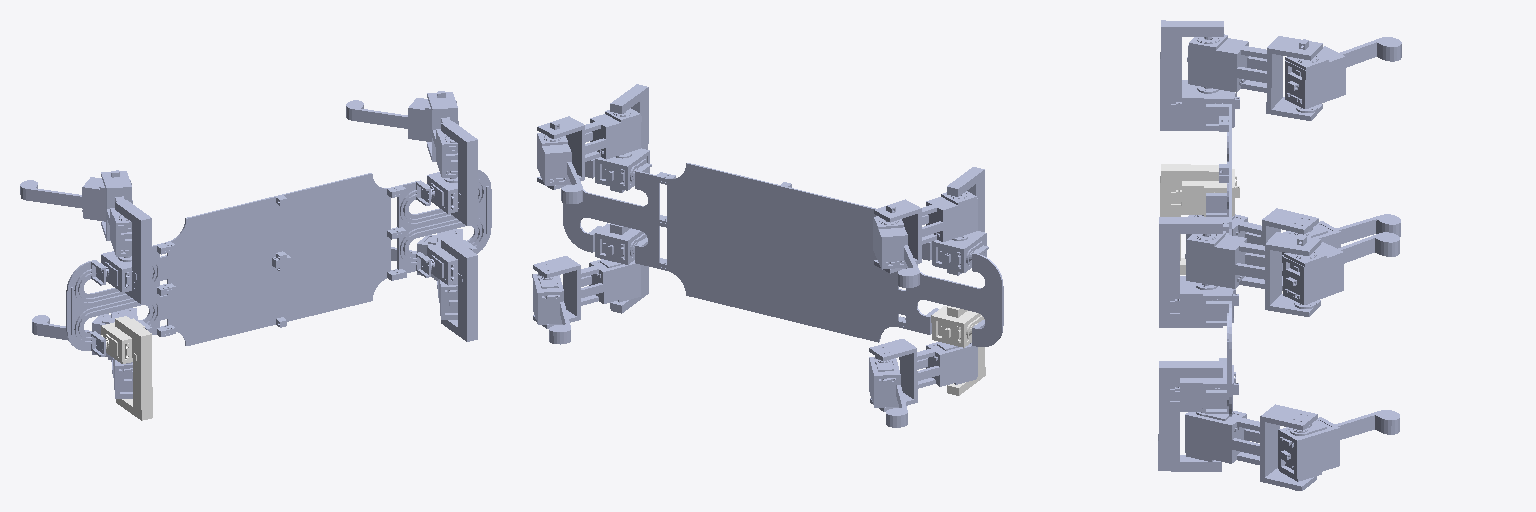
The robot description file, URDF, robot "Full Body.SLDASM":
<?xml version="1.0" encoding="utf-8"?>
<!-- This URDF was automatically created by SolidWorks to URDF Exporter! Originally created by [author] ([email redacted]) 
     Commit Version: 1.6.0-4-g7f85cfe  Build Version: 1.6.7995.38578
     For more information, please see http://wiki.ros.org/sw_urdf_exporter -->
<robot
  name="Full Body.SLDASM">
  <link
    name="body">
    <inertial>
      <origin
        xyz="0.17399 -0.0072178 0.011599"
        rpy="0 0 0" />
      <mass
        value="0.19944" />
      <inertia
        ixx="0.00016185"
        ixy="-5.2204E-08"
        ixz="1.0475E-18"
        iyy="0.00054277"
        iyz="5.3474E-18"
        izz="0.00038654" />
    </inertial>
    <visual>
      <origin
        xyz="0 0 0"
        rpy="0 0 0" />
      <geometry>
        <mesh
          filename="package://Full Body.SLDASM/meshes/body.STL" />
      </geometry>
      <material
        name="">
        <color
          rgba="0.79216 0.81961 0.93333 1" />
      </material>
    </visual>
    <collision>
      <origin
        xyz="0 0 0"
        rpy="0 0 0" />
      <geometry>
        <mesh
          filename="package://Full Body.SLDASM/meshes/body.STL" />
      </geometry>
    </collision>
  </link>
  <link
    name="front_left_shoulder">
    <inertial>
      <origin
        xyz="-0.069531 -0.05822 -0.029382"
        rpy="0 0 0" />
      <mass
        value="0.10612" />
      <inertia
        ixx="6.9045E-05"
        ixy="3.7441E-08"
        ixz="-3.6654E-07"
        iyy="3.437E-05"
        iyz="1.7802E-08"
        izz="8.4534E-05" />
    </inertial>
    <visual>
      <origin
        xyz="0 0 0"
        rpy="0 0 0" />
      <geometry>
        <mesh
          filename="package://Full Body.SLDASM/meshes/front_left_shoulder.STL" />
      </geometry>
      <material
        name="">
        <color
          rgba="0.79216 0.81961 0.93333 1" />
      </material>
    </visual>
    <collision>
      <origin
        xyz="0 0 0"
        rpy="0 0 0" />
      <geometry>
        <mesh
          filename="package://Full Body.SLDASM/meshes/front_left_shoulder.STL" />
      </geometry>
    </collision>
  </link>
  <joint
    name="front_left_shoulder_joint"
    type="revolute">
    <origin
      xyz="0.36601 0.030456 0.011371"
      rpy="-1.5708 -0.0034161 1.5708" />
    <parent
      link="body" />
    <child
      link="front_left_shoulder" />
    <axis
      xyz="0 0 1" />
    <limit
      lower="0"
      upper="0"
      effort="0"
      velocity="0" />
  </joint>
  <link
    name="front_left_thigh">
    <inertial>
      <origin
        xyz="-0.030997 0.063607 -0.071235"
        rpy="0 0 0" />
      <mass
        value="0.092156" />
      <inertia
        ixx="3.9451E-05"
        ixy="-2.4188E-05"
        ixz="-1.2087E-05"
        iyy="9.4452E-05"
        iyz="3.9038E-06"
        izz="8.3958E-05" />
    </inertial>
    <visual>
      <origin
        xyz="0 0 0"
        rpy="0 0 0" />
      <geometry>
        <mesh
          filename="package://Full Body.SLDASM/meshes/front_left_thigh.STL" />
      </geometry>
      <material
        name="">
        <color
          rgba="0.79216 0.81961 0.93333 1" />
      </material>
    </visual>
    <collision>
      <origin
        xyz="0 0 0"
        rpy="0 0 0" />
      <geometry>
        <mesh
          filename="package://Full Body.SLDASM/meshes/front_left_thigh.STL" />
      </geometry>
    </collision>
  </link>
  <joint
    name="front_left_thigh_joint"
    type="revolute">
    <origin
      xyz="0 0 -0.00862363122624432"
      rpy="-1.95295163559476 0 0" />
    <parent
      link="front_left_shoulder" />
    <child
      link="front_left_thigh" />
    <axis
      xyz="0 0.927863031055594 0.372921165396021" />
    <limit
      lower="0"
      upper="0"
      effort="0"
      velocity="0" />
  </joint>
  <link
    name="front_left_knee">
    <inertial>
      <origin
        xyz="-0.0494712889569819 0.0239070954154987 -0.108430571081441"
        rpy="0 0 0" />
      <mass
        value="0.0741258107469356" />
      <inertia
        ixx="3.18790252022645E-05"
        ixy="1.97729847666191E-05"
        ixz="1.74972772015769E-05"
        iyy="5.04816804602454E-05"
        iyz="-6.96245148390364E-06"
        izz="5.24239804537086E-05" />
    </inertial>
    <visual>
      <origin
        xyz="0 0 0"
        rpy="0 0 0" />
      <geometry>
        <mesh
          filename="package://Full Body.SLDASM/meshes/front_left_knee.STL" />
      </geometry>
      <material
        name="">
        <color
          rgba="0.792156862745098 0.819607843137255 0.933333333333333 1" />
      </material>
    </visual>
    <collision>
      <origin
        xyz="0 0 0"
        rpy="0 0 0" />
      <geometry>
        <mesh
          filename="package://Full Body.SLDASM/meshes/front_left_knee.STL" />
      </geometry>
    </collision>
  </link>
  <joint
    name="front_left_knee_joint"
    type="revolute">
    <origin
      xyz="0 -0.0117307602622488 0.00606269570371937"
      rpy="-1.09443677842984 0 -3.14159265358979" />
    <parent
      link="front_left_thigh" />
    <child
      link="front_left_knee" />
    <axis
      xyz="0 0.75687276465301 0.65356225267874" />
    <limit
      lower="0"
      upper="0"
      effort="0"
      velocity="0" />
  </joint>
  <link
    name="front_right_shoulder">
    <inertial>
      <origin
        xyz="0.025194 0.056428 -0.029382"
        rpy="0 0 0" />
      <mass
        value="0.10612" />
      <inertia
        ixx="6.8976E-05"
        ixy="-1.5483E-06"
        ixz="-3.6697E-07"
        iyy="3.444E-05"
        iyz="-1.7974E-09"
        izz="8.4534E-05" />
    </inertial>
    <visual>
      <origin
        xyz="0 0 0"
        rpy="0 0 0" />
      <geometry>
        <mesh
          filename="package://Full Body.SLDASM/meshes/front_right_shoulder.STL" />
      </geometry>
      <material
        name="">
        <color
          rgba="0.79216 0.81961 0.93333 1" />
      </material>
    </visual>
    <collision>
      <origin
        xyz="0 0 0"
        rpy="0 0 0" />
      <geometry>
        <mesh
          filename="package://Full Body.SLDASM/meshes/front_right_shoulder.STL" />
      </geometry>
    </collision>
  </link>
  <joint
    name="front_right_shoulder_joint"
    type="revolute">
    <origin
      xyz="0.36601 -0.061544 0.011371"
      rpy="-1.5708 0.052314 1.5708" />
    <parent
      link="body" />
    <child
      link="front_right_shoulder" />
    <axis
      xyz="0 0 1" />
    <limit
      lower="0"
      upper="0"
      effort="0"
      velocity="0" />
  </joint>
  <link
    name="front_right_thigh">
    <inertial>
      <origin
        xyz="0.0637605706827707 -0.00814234205089392 0.0934181530420835"
        rpy="0 0 0" />
      <mass
        value="0.0921564007333959" />
      <inertia
        ixx="4.59241360429781E-05"
        ixy="-3.01320391050131E-05"
        ixz="-1.17608781695421E-05"
        iyy="8.59200793077752E-05"
        iyz="4.27222084087318E-06"
        izz="8.60172093927408E-05" />
    </inertial>
    <visual>
      <origin
        xyz="0 0 0"
        rpy="0 0 0" />
      <geometry>
        <mesh
          filename="package://Full Body.SLDASM/meshes/front_right_thigh.STL" />
      </geometry>
      <material
        name="">
        <color
          rgba="0.792156862745098 0.819607843137255 0.933333333333333 1" />
      </material>
    </visual>
    <collision>
      <origin
        xyz="0 0 0"
        rpy="0 0 0" />
      <geometry>
        <mesh
          filename="package://Full Body.SLDASM/meshes/front_right_thigh.STL" />
      </geometry>
    </collision>
  </link>
  <joint
    name="front_right_thigh_joint"
    type="revolute">
    <origin
      xyz="0 0 -0.00738542988082108"
      rpy="-2.05769527388425 0 0" />
    <parent
      link="front_right_shoulder" />
    <child
      link="front_right_thigh" />
    <axis
      xyz="0 0.883788049564914 0.467887468785225" />
    <limit
      lower="0"
      upper="0"
      effort="0"
      velocity="0" />
  </joint>
  <link
    name="front_right_knee">
    <inertial>
      <origin
        xyz="0.141993017305764 0.099108301521659 0.0271036200926005"
        rpy="0 0 0" />
      <mass
        value="0.0741256904707244" />
      <inertia
        ixx="2.81491328969834E-05"
        ixy="2.1191560053683E-05"
        ixz="-1.36755674405465E-05"
        iyy="5.07658122982971E-05"
        iyz="4.53396108301155E-06"
        izz="5.58687393116714E-05" />
    </inertial>
    <visual>
      <origin
        xyz="0 0 0"
        rpy="0 0 0" />
      <geometry>
        <mesh
          filename="package://Full Body.SLDASM/meshes/front_right_knee.STL" />
      </geometry>
      <material
        name="">
        <color
          rgba="0.792156862745098 0.819607843137255 0.933333333333333 1" />
      </material>
    </visual>
    <collision>
      <origin
        xyz="0 0 0"
        rpy="0 0 0" />
      <geometry>
        <mesh
          filename="package://Full Body.SLDASM/meshes/front_right_knee.STL" />
      </geometry>
    </collision>
  </link>
  <joint
    name="front_right_knee_joint"
    type="revolute">
    <origin
      xyz="0 -0.00652715466956932 -0.00345555009282814"
      rpy="1.12536795037729 0 0" />
    <parent
      link="front_right_thigh" />
    <child
      link="front_right_knee" />
    <axis
      xyz="0 0.803009121747932 -0.595966735975772" />
    <limit
      lower="0"
      upper="0"
      effort="0"
      velocity="0" />
  </joint>
  <link
    name="back_left_shoulder">
    <inertial>
      <origin
        xyz="-0.0686209275088679 -0.0591199587315326 0.0231183905956362"
        rpy="0 0 0" />
      <mass
        value="0.106117445820718" />
      <inertia
        ixx="6.90447854085146E-05"
        ixy="3.74414577353296E-08"
        ixz="-3.66537660793294E-07"
        iyy="3.43703994691664E-05"
        iyz="1.78024545548862E-08"
        izz="8.45335274007001E-05" />
    </inertial>
    <visual>
      <origin
        xyz="0 0 0"
        rpy="0 0 0" />
      <geometry>
        <mesh
          filename="package://Full Body.SLDASM/meshes/back_left_shoulder.STL" />
      </geometry>
      <material
        name="">
        <color
          rgba="0.792156862745098 0.819607843137255 0.933333333333333 1" />
      </material>
    </visual>
    <collision>
      <origin
        xyz="0 0 0"
        rpy="0 0 0" />
      <geometry>
        <mesh
          filename="package://Full Body.SLDASM/meshes/back_left_shoulder.STL" />
      </geometry>
    </collision>
  </link>
  <joint
    name="back_left_shoulder_joint"
    type="revolute">
    <origin
      xyz="-0.018486 0.030456 0.010121"
      rpy="-1.5708 0.0038623 1.5708" />
    <parent
      link="body" />
    <child
      link="back_left_shoulder" />
    <axis
      xyz="0 0 1" />
    <limit
      lower="0"
      upper="0"
      effort="0"
      velocity="0" />
  </joint>
  <link
    name="back_left_thigh">
    <inertial>
      <origin
        xyz="-0.0300876967050007 -0.00686730817622022 -0.100530094100525"
        rpy="0 0 0" />
      <mass
        value="0.0921564007333958" />
      <inertia
        ixx="3.94514941041889E-05"
        ixy="-2.41875457608833E-05"
        ixz="-1.20868867168731E-05"
        iyy="9.44515990938333E-05"
        iyz="3.90382054927565E-06"
        izz="8.39583315454717E-05" />
    </inertial>
    <visual>
      <origin
        xyz="0 0 0"
        rpy="0 0 0" />
      <geometry>
        <mesh
          filename="package://Full Body.SLDASM/meshes/back_left_thigh.STL" />
      </geometry>
      <material
        name="">
        <color
          rgba="0.792156862745098 0.819607843137255 0.933333333333333 1" />
      </material>
    </visual>
    <collision>
      <origin
        xyz="0 0 0"
        rpy="0 0 0" />
      <geometry>
        <mesh
          filename="package://Full Body.SLDASM/meshes/back_left_thigh.STL" />
      </geometry>
    </collision>
  </link>
  <joint
    name="back_left_thigh_joint"
    type="revolute">
    <origin
      xyz="0 0 -0.0324392736593958"
      rpy="-1.95295163559476 0 0" />
    <parent
      link="back_left_shoulder" />
    <child
      link="back_left_thigh" />
    <axis
      xyz="0 0.927863031055593 0.372921165396022" />
    <limit
      lower="0"
      upper="0"
      effort="0"
      velocity="0" />
  </joint>
  <link
    name="back_left_knee">
    <inertial>
      <origin
        xyz="0.0503809805649433 -0.0822480041511203 -0.0460300485488428"
        rpy="0 0 0" />
      <mass
        value="0.0741258082028949" />
      <inertia
        ixx="3.18790426763093E-05"
        ixy="1.97729603917105E-05"
        ixz="-1.74972544914311E-05"
        iyy="5.04816838488345E-05"
        iyz="6.96246018310675E-06"
        izz="5.24239863649634E-05" />
    </inertial>
    <visual>
      <origin
        xyz="0 0 0"
        rpy="0 0 0" />
      <geometry>
        <mesh
          filename="package://Full Body.SLDASM/meshes/back_left_knee.STL" />
      </geometry>
      <material
        name="">
        <color
          rgba="0.792156862745098 0.819607843137255 0.933333333333333 1" />
      </material>
    </visual>
    <collision>
      <origin
        xyz="0 0 0"
        rpy="0 0 0" />
      <geometry>
        <mesh
          filename="package://Full Body.SLDASM/meshes/back_left_knee.STL" />
      </geometry>
    </collision>
  </link>
  <joint
    name="back_left_knee_joint"
    type="revolute">
    <origin
      xyz="0 0 0"
      rpy="1.09443677842984 0 0" />
    <parent
      link="back_left_thigh" />
    <child
      link="back_left_knee" />
    <axis
      xyz="0 0.756872764653014 -0.653562252678735" />
    <limit
      lower="0"
      upper="0"
      effort="0"
      velocity="0" />
  </joint>
  <link
    name="back_right_shoulder">
    <inertial>
      <origin
        xyz="0 0 0"
        rpy="0 0 0" />
      <mass
        value="0" />
      <inertia
        ixx="0"
        ixy="0"
        ixz="0"
        iyy="0"
        iyz="0"
        izz="0" />
    </inertial>
    <visual>
      <origin
        xyz="0 0 0"
        rpy="0 0 0" />
      <geometry>
        <mesh
          filename="package://Full Body.SLDASM/meshes/back_right_shoulder.STL" />
      </geometry>
      <material
        name="">
        <color
          rgba="1 1 1 1" />
      </material>
    </visual>
    <collision>
      <origin
        xyz="0 0 0"
        rpy="0 0 0" />
      <geometry>
        <mesh
          filename="package://Full Body.SLDASM/meshes/back_right_shoulder.STL" />
      </geometry>
    </collision>
  </link>
  <joint
    name="back_right_shoulder_joint"
    type="revolute">
    <origin
      xyz="-0.0184860971410226 -0.0615435825424206 0.0101205493494944"
      rpy="-1.5707963267949 0.023596947260394 1.5707963267949" />
    <parent
      link="body" />
    <child
      link="back_right_shoulder" />
    <axis
      xyz="0 0 1" />
    <limit
      lower="0"
      upper="0"
      effort="0"
      velocity="0" />
  </joint>
  <link
    name="back_right_thigh">
    <inertial>
      <origin
        xyz="0.0622060869183061 -0.0924934585712353 0.0494630083906624"
        rpy="0 0 0" />
      <mass
        value="0.0921564007333958" />
      <inertia
        ixx="4.57102415963342E-05"
        ixy="-2.95895568953687E-05"
        ixz="-1.29258675329592E-05"
        iyy="8.6895586857789E-05"
        iyz="3.55251085011101E-06"
        izz="8.52555962893705E-05" />
    </inertial>
    <visual>
      <origin
        xyz="0 0 0"
        rpy="0 0 0" />
      <geometry>
        <mesh
          filename="package://Full Body.SLDASM/meshes/back_right_thigh.STL" />
      </geometry>
      <material
        name="">
        <color
          rgba="0.792156862745098 0.819607843137255 0.933333333333333 1" />
      </material>
    </visual>
    <collision>
      <origin
        xyz="0 0 0"
        rpy="0 0 0" />
      <geometry>
        <mesh
          filename="package://Full Body.SLDASM/meshes/back_right_thigh.STL" />
      </geometry>
    </collision>
  </link>
  <joint
    name="back_right_thigh_joint"
    type="revolute">
    <origin
      xyz="0 0 -0.05"
      rpy="-2.05769527388425 0 0" />
    <parent
      link="back_right_shoulder" />
    <child
      link="back_right_thigh" />
    <axis
      xyz="0 0.883788049564913 0.467887468785226" />
    <limit
      lower="0"
      upper="0"
      effort="0"
      velocity="0" />
  </joint>
  <link
    name="back_right_knee">
    <inertial>
      <origin
        xyz="0.140584287244983 0.0187984065861515 0.0908830620344914"
        rpy="0 0 0" />
      <mass
        value="0.0741256918228517" />
      <inertia
        ixx="2.80710212971451E-05"
        ixy="2.0579774627756E-05"
        ixz="-1.45402711024904E-05"
        iyy="5.16348840832024E-05"
        iyz="4.8259434774355E-06"
        izz="5.50777724946282E-05" />
    </inertial>
    <visual>
      <origin
        xyz="0 0 0"
        rpy="0 0 0" />
      <geometry>
        <mesh
          filename="package://Full Body.SLDASM/meshes/back_right_knee.STL" />
      </geometry>
      <material
        name="">
        <color
          rgba="0.792156862745098 0.819607843137255 0.933333333333333 1" />
      </material>
    </visual>
    <collision>
      <origin
        xyz="0 0 0"
        rpy="0 0 0" />
      <geometry>
        <mesh
          filename="package://Full Body.SLDASM/meshes/back_right_knee.STL" />
      </geometry>
    </collision>
  </link>
  <joint
    name="back_right_knee_joint"
    type="revolute">
    <origin
      xyz="0 0 0"
      rpy="1.12536795037729 0 0" />
    <parent
      link="back_right_thigh" />
    <child
      link="back_right_knee" />
    <axis
      xyz="0 0.803009121747931 -0.595966735975773" />
    <limit
      lower="0"
      upper="0"
      effort="0"
      velocity="0" />
  </joint>
</robot>

--- Facts derived from the render (not from the file) ---
Views: 3 orthographic renders of the robot side by side, from view 1: azimuth 30°, elevation 25°; view 2: azimuth 150°, elevation 25°; view 3: azimuth 270°, elevation 25°.
Robot: Full Body.SLDASM — 13 links, 12 joints (12 revolute); root link body; default pose: every joint at zero.
Links seen in each view (by area): view 1: body, front_right_shoulder, back_right_shoulder, front_left_shoulder, back_left_shoulder, front_left_thigh, back_left_thigh, front_left_knee, back_left_knee, back_right_thigh, front_right_thigh, back_right_knee; view 2: body, back_right_thigh, front_right_thigh, back_left_thigh, front_left_thigh, front_left_shoulder, back_left_shoulder, back_left_knee, front_left_knee, back_right_shoulder, front_right_shoulder, back_right_knee (+1 smaller); view 3: front_left_thigh, back_left_thigh, front_right_thigh, front_right_shoulder, front_left_shoulder, back_left_shoulder, front_right_knee, front_left_knee, back_left_knee, body, back_right_shoulder, back_right_thigh (+1 smaller).
Boxes of the visible links, left/top/right/bottom form: body: left=66, top=170, right=491, bottom=356; front_right_shoulder: left=427, top=237, right=477, bottom=341; back_right_shoulder: left=101, top=316, right=152, bottom=420; front_left_shoulder: left=426, top=121, right=477, bottom=225; back_left_shoulder: left=101, top=200, right=151, bottom=304; front_left_thigh: left=427, top=91, right=457, bottom=182; back_left_thigh: left=101, top=170, right=131, bottom=261; front_left_knee: left=346, top=98, right=458, bottom=141; back_left_knee: left=20, top=177, right=132, bottom=221; back_right_thigh: left=111, top=308, right=137, bottom=398; front_right_thigh: left=437, top=229, right=462, bottom=319; back_right_knee: left=32, top=314, right=138, bottom=359; body: left=563, top=159, right=1003, bottom=346; back_right_thigh: left=869, top=339, right=977, bottom=411; front_right_thigh: left=533, top=256, right=640, bottom=328; back_left_thigh: left=874, top=191, right=977, bottom=273; front_left_thigh: left=537, top=108, right=641, bottom=189; front_left_shoulder: left=595, top=84, right=649, bottom=192; back_left_shoulder: left=932, top=167, right=986, bottom=275; back_left_knee: left=873, top=216, right=919, bottom=287; front_left_knee: left=537, top=133, right=582, bottom=203; back_right_shoulder: left=931, top=306, right=985, bottom=395; front_right_shoulder: left=595, top=223, right=648, bottom=313; back_right_knee: left=869, top=356, right=907, bottom=427; front_left_thigh: left=1185, top=231, right=1320, bottom=316; back_left_thigh: left=1187, top=34, right=1322, bottom=120; front_right_thigh: left=1185, top=404, right=1317, bottom=490; front_right_shoulder: left=1158, top=361, right=1238, bottom=471; front_left_shoulder: left=1159, top=217, right=1238, bottom=327; back_left_shoulder: left=1160, top=20, right=1239, bottom=130; front_right_knee: left=1278, top=410, right=1399, bottom=481; front_left_knee: left=1283, top=232, right=1399, bottom=308; back_left_knee: left=1285, top=37, right=1401, bottom=112; body: left=1206, top=104, right=1231, bottom=416; back_right_shoulder: left=1160, top=164, right=1239, bottom=274; back_right_thigh: left=1186, top=208, right=1318, bottom=290.
Size in the robot's own frame: 0.5738 by 0.2289 by 0.2574 metres.
Meshes: 13 distinct files referenced, 13 mesh visuals loaded (13 binary STL).
